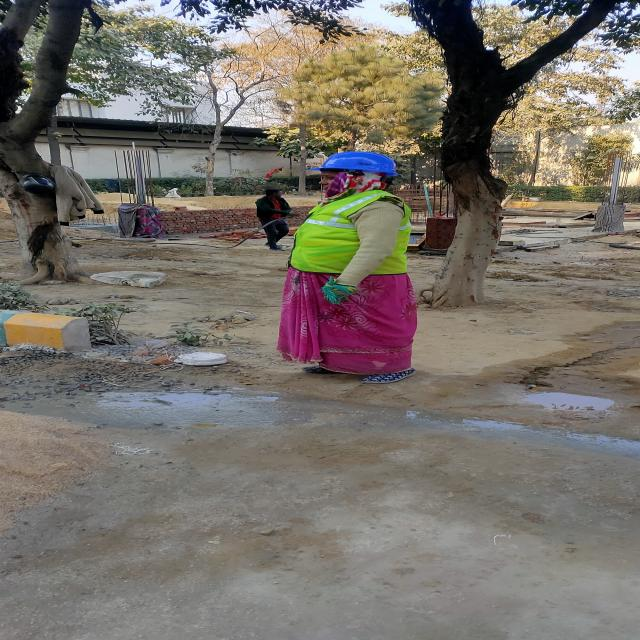safe: (285, 151, 416, 385)
unsafe: (257, 188, 295, 250)
